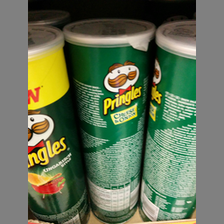chips: (63, 18, 155, 220), (141, 19, 196, 223), (27, 22, 81, 224)
